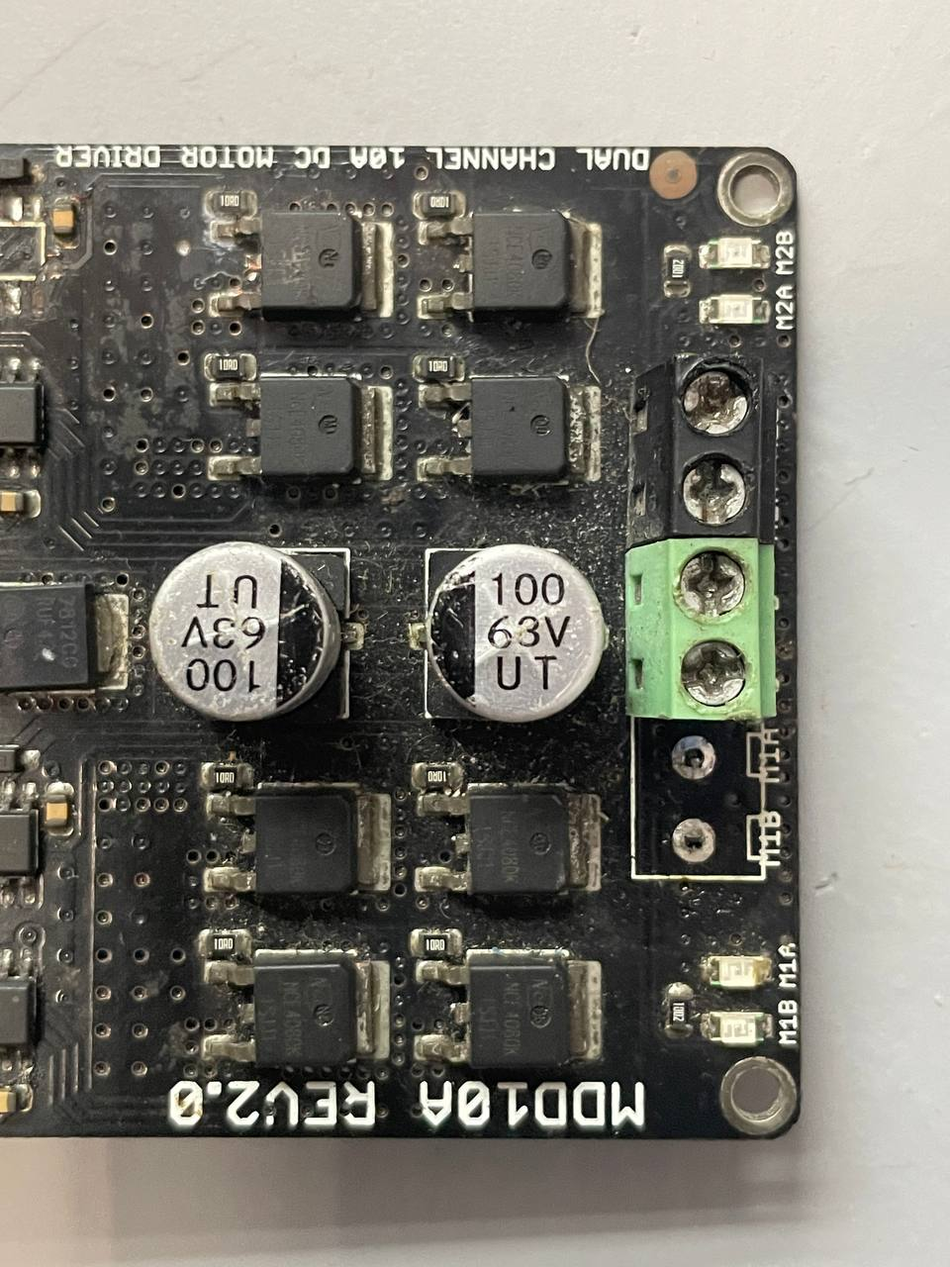missing_tb: (621, 700, 793, 891)
